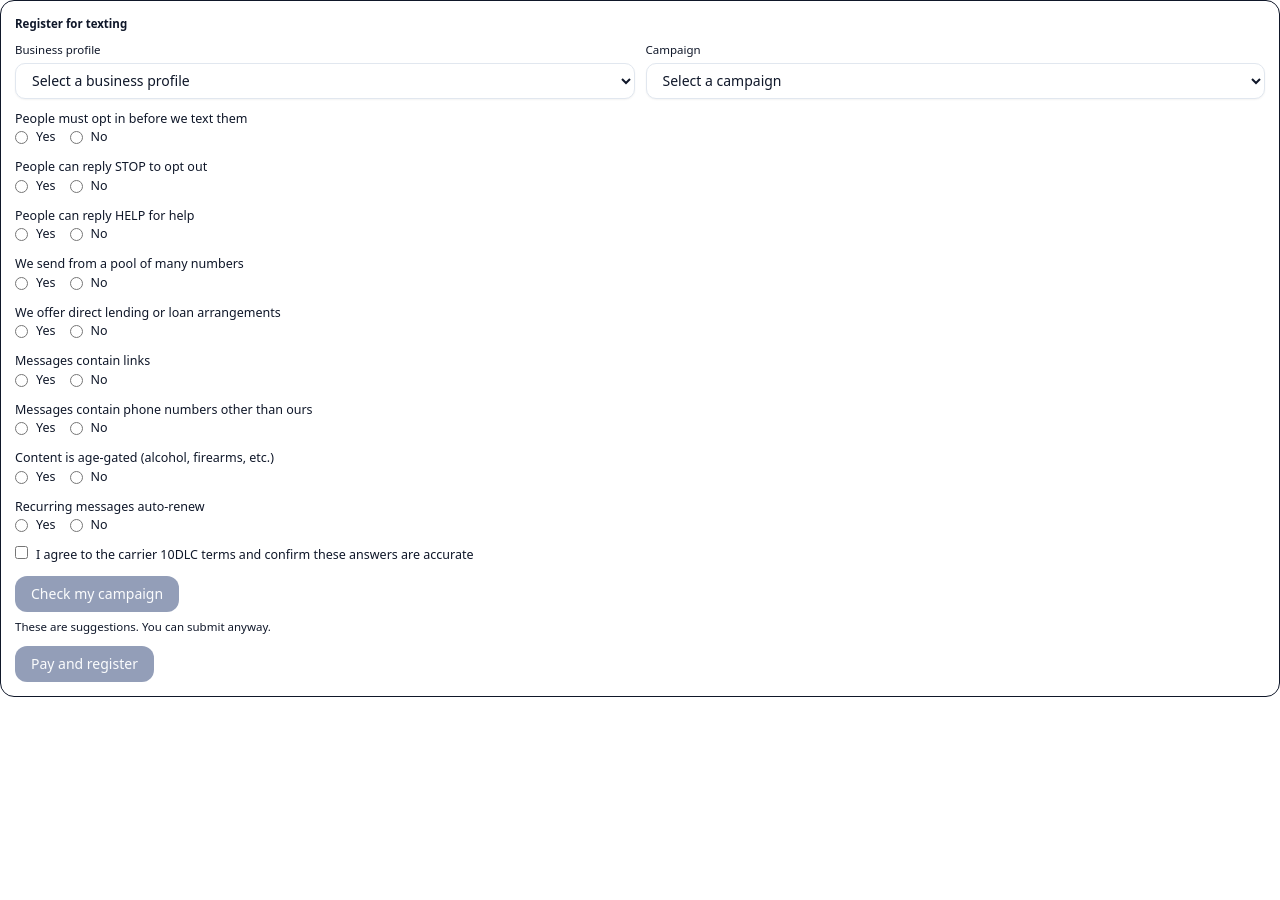
Test: TextingRegistrationCard checkout and pricing › an approved business with a declined campaign shows the campaign-only total
Select "Acme Inc" in the dropdown labelled "Business profile" at (325, 80), box left=15, top=62, right=634, bottom=98
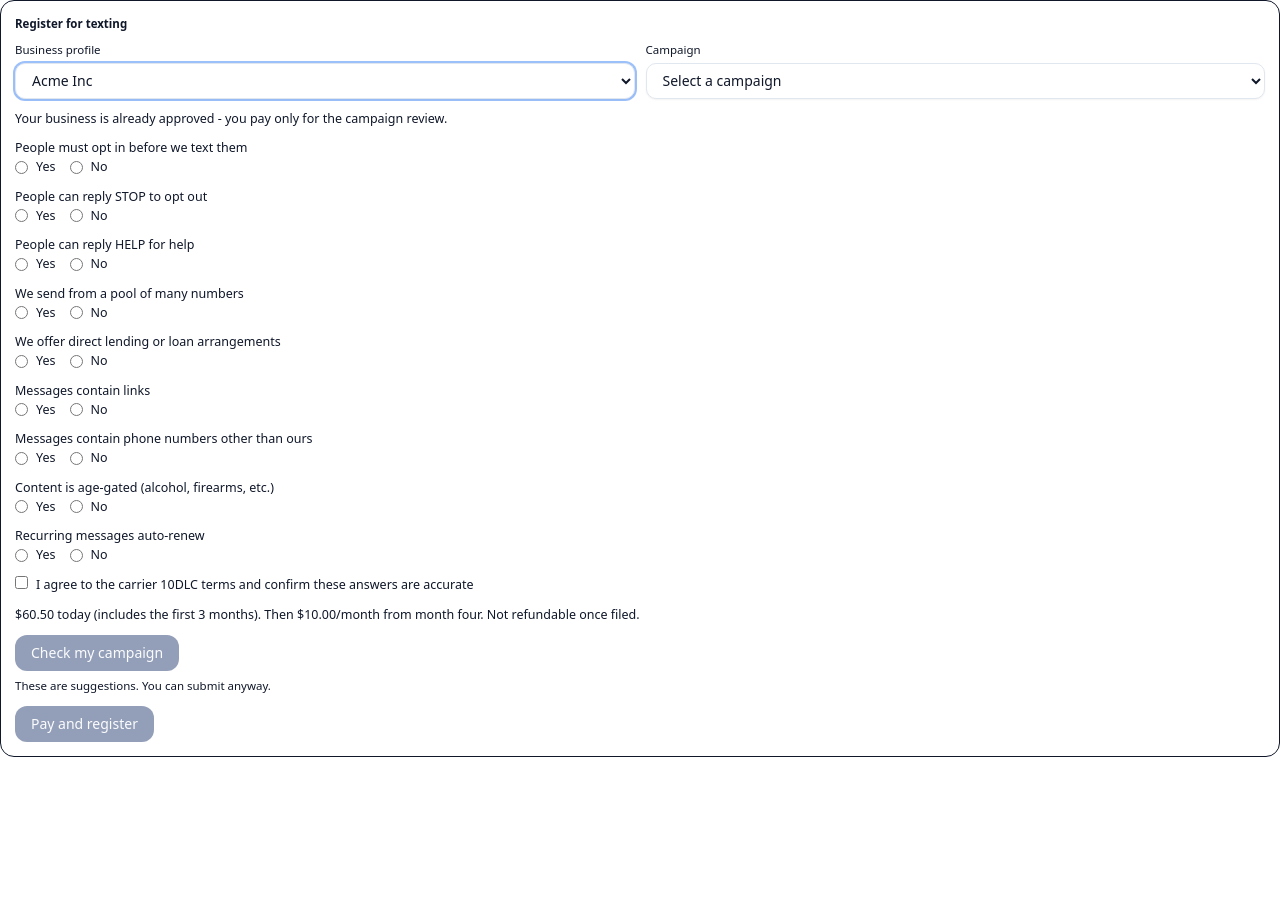
Expected: the text "Your business is already approved - you pay only for the campaign review." is shown, left=15, top=110, right=447, bottom=126
Expected: the text with test id "texting-quote" shows "$60.50 today", left=15, top=606, right=640, bottom=622
